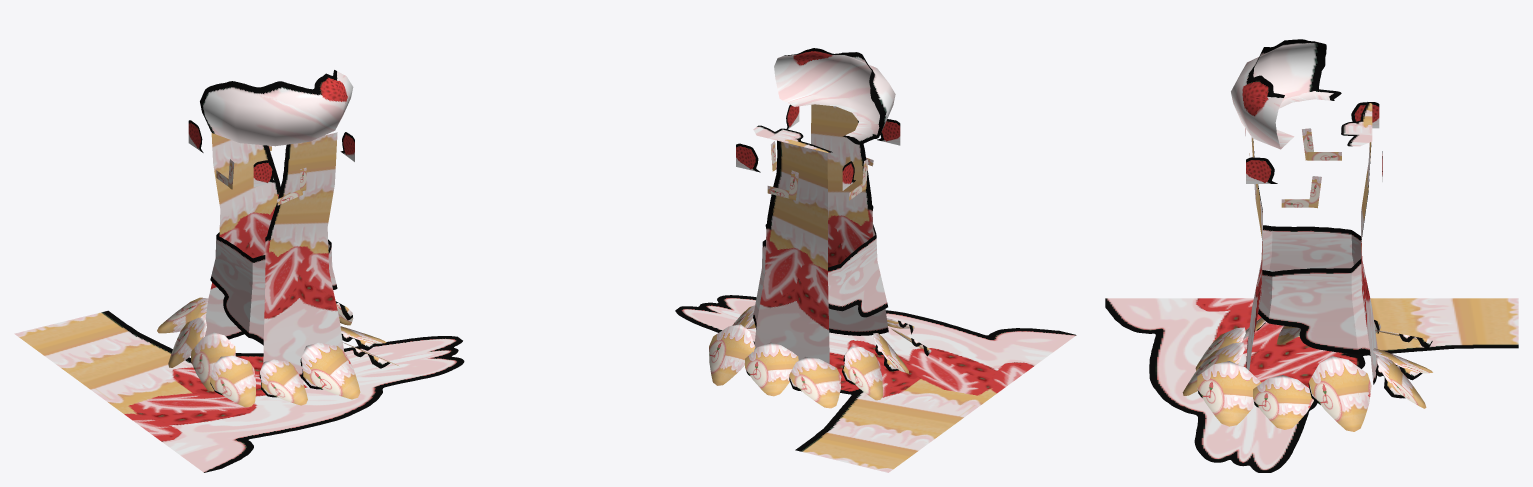
File: clocktower.fbx
The picture shows the model from 3 angles, left to right: view 1: azimuth 30°, elevation 25°; view 2: azimuth 150°, elevation 25°; view 3: azimuth 270°, elevation 25°; orthographic projection. The views are drawn at different scales.
Visible parts, largest first — view 1: plane, shortcakes, strawberries_bottom, cream_top, cream_dripping; view 2: shortcakes, plane, strawberries_bottom, cream_top, cream_dripping; view 3: plane, shortcakes, strawberries_bottom, cream_top, cream_dripping.
Boxes of the visible parts, <box> form: plane: <box>14,310,464,472</box>; shortcakes: <box>205,132,344,378</box>; strawberries_bottom: <box>157,297,398,407</box>; cream_top: <box>200,70,353,146</box>; cream_dripping: <box>188,120,354,187</box>; shortcakes: <box>753,104,888,363</box>; plane: <box>675,295,1076,472</box>; strawberries_bottom: <box>709,305,931,408</box>; cream_top: <box>774,48,895,144</box>; cream_dripping: <box>736,104,900,190</box>; plane: <box>1105,298,1518,472</box>; shortcakes: <box>1246,102,1378,384</box>; strawberries_bottom: <box>1182,317,1432,431</box>; cream_top: <box>1231,39,1341,149</box>; cream_dripping: <box>1245,102,1382,183</box>.
Bounding box in the file's own units: 230 × 235 × 230.
